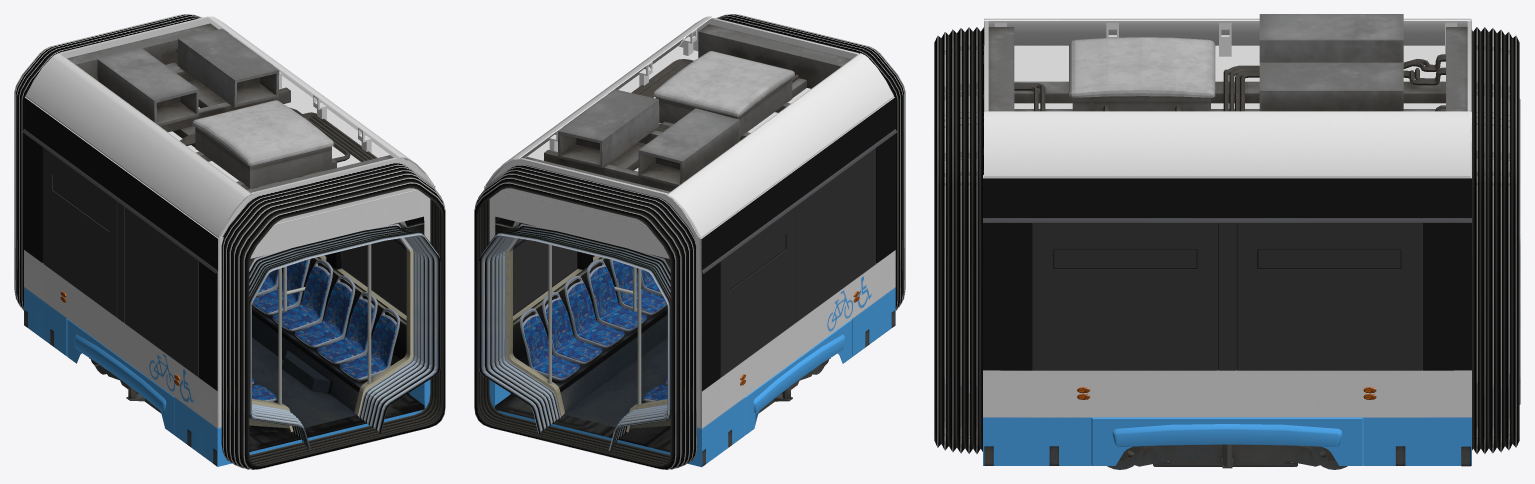
File: vityazbl_b.obj
3 views of the same model, side by side, from view 1: azimuth 30°, elevation 25°; view 2: azimuth 150°, elevation 25°; view 3: azimuth 270°, elevation 25° (orthographic). The views are drawn at different scales.
Visible parts, largest first — view 1: body, salon, steklo; view 2: body, salon, steklo; view 3: body, steklo, bog, salon.
Boxes of the visible parts, bbox=[...] form: body: bbox=[14, 14, 445, 469]; salon: bbox=[249, 218, 440, 451]; steklo: bbox=[43, 148, 406, 376]; body: bbox=[474, 14, 905, 469]; salon: bbox=[479, 218, 670, 451]; steklo: bbox=[513, 148, 875, 376]; body: bbox=[934, 14, 1519, 466]; steklo: bbox=[1032, 223, 1422, 370]; bog: bbox=[1107, 444, 1347, 469]; salon: bbox=[1519, 99, 1520, 404].
Bounding box in the file's own units: 2.62 × 3.35 × 4.74.
14 materials, 14 textured.
